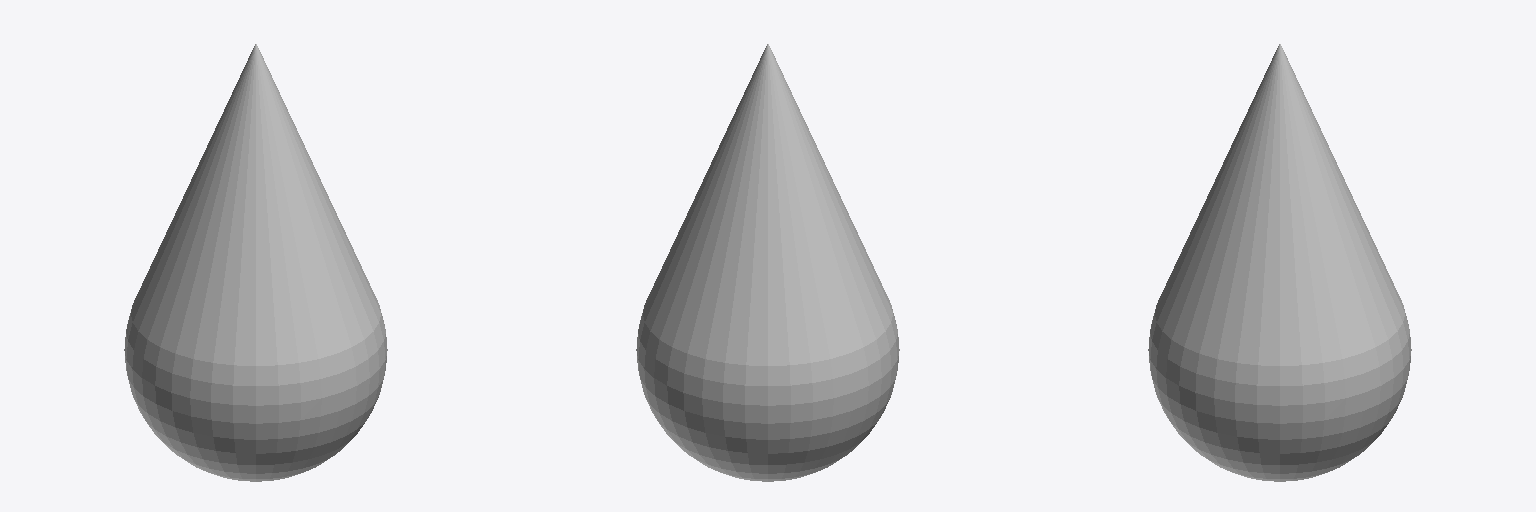
File: ship.obj
3 renders of one model, left to right at view 1: azimuth 30°, elevation 25°; view 2: azimuth 150°, elevation 25°; view 3: azimuth 270°, elevation 25°, orthographic.
Parts seen in each view (by area): view 1: ship.obj; view 2: ship.obj; view 3: ship.obj.
Part boxes in pixels (x1,y1,x2,y2): ship.obj: (124, 44, 387, 481); ship.obj: (636, 44, 899, 481); ship.obj: (1148, 44, 1411, 481).
Size of the model in its own units: 1 by 1.79 by 1.